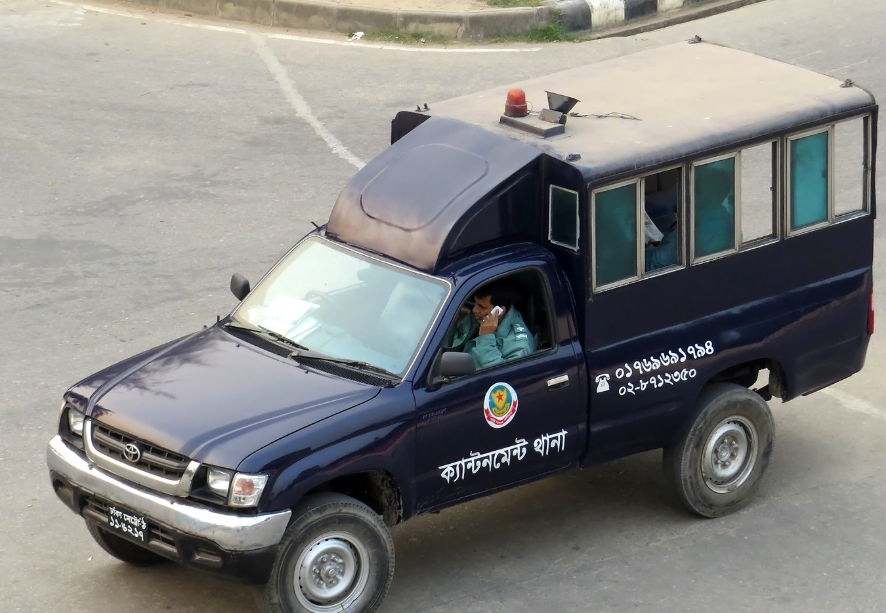Police cars: (42, 32, 879, 613)
